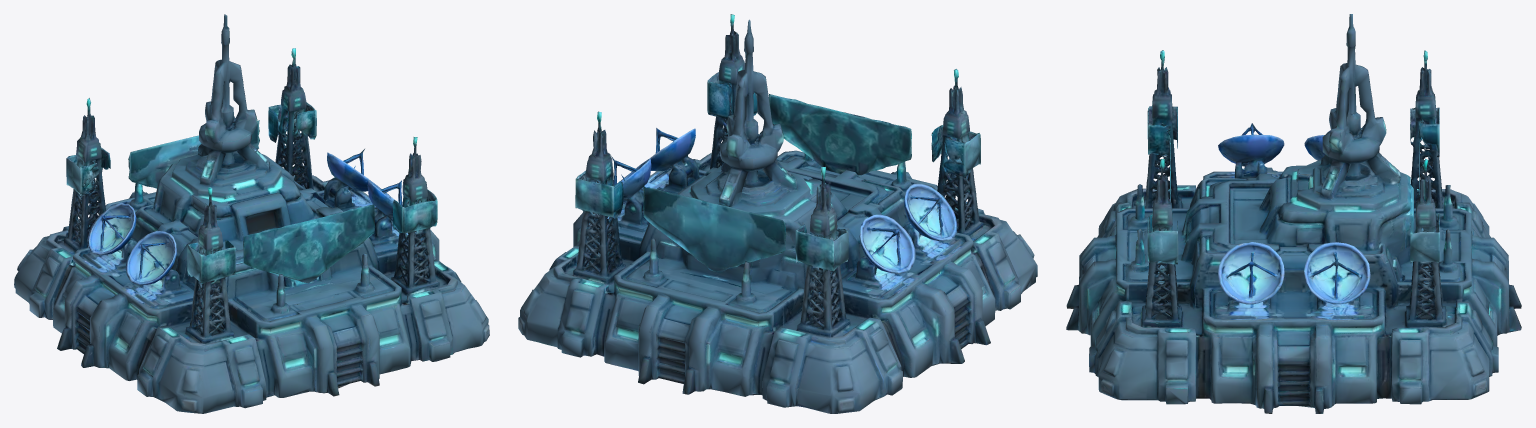
File: orbital_command.glb
3 views of the same model, side by side, from view 1: azimuth 30°, elevation 25°; view 2: azimuth 150°, elevation 25°; view 3: azimuth 270°, elevation 25° (orthographic). The views are drawn at different scales.
Visible parts, largest first — view 1: Mesh1.0; view 2: Mesh1.0; view 3: Mesh1.0.
Boxes of the visible parts, left/top/right/bottom form: Mesh1.0: left=14, top=14, right=489, bottom=413; Mesh1.0: left=518, top=14, right=1037, bottom=413; Mesh1.0: left=1066, top=14, right=1521, bottom=413.
Bounding box in the file's own units: 1.91 × 1.41 × 1.91.
1 material, 1 textured.
